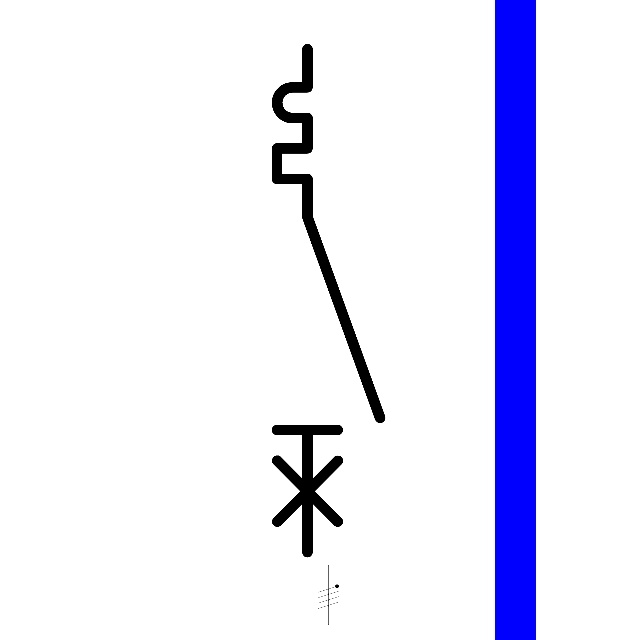interruptor_termomagnetico: (264, 36, 393, 565)
